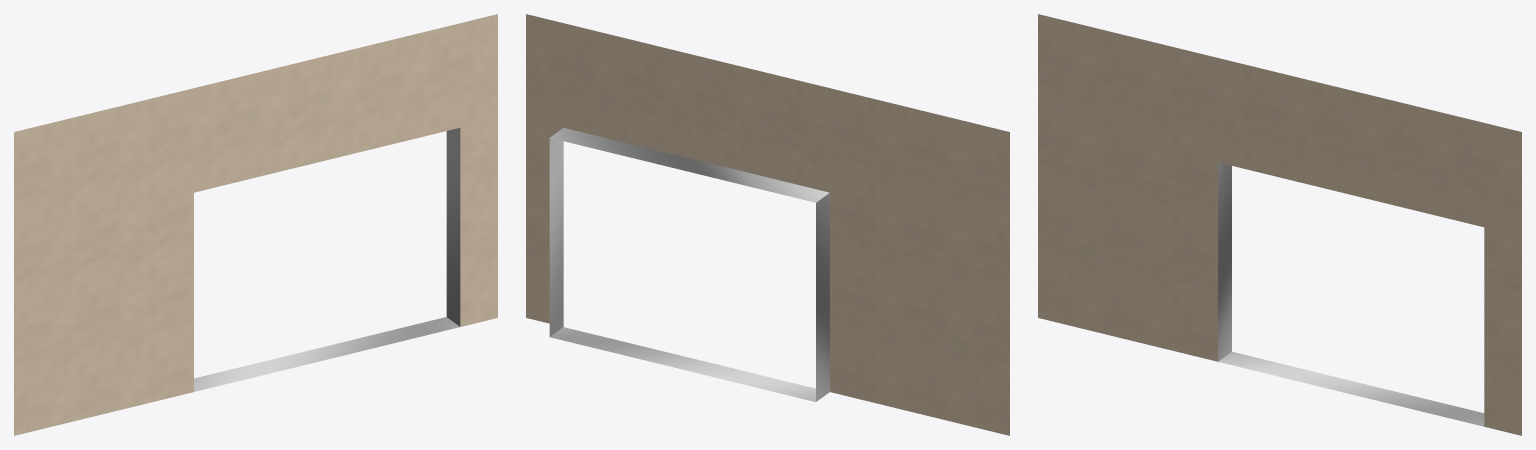
File: roomparts1.fbx
3 renders of one model, left to right at view 1: azimuth 30°, elevation 25°; view 2: azimuth 150°, elevation 25°; view 3: azimuth 330°, elevation 25°, orthographic.
Visible parts, largest first — view 1: polySurface35; view 2: polySurface35; view 3: polySurface35.
Boxes of the visible parts, x1,y1,x2,y2 form: polySurface35: (14, 14, 497, 435); polySurface35: (526, 14, 1009, 435); polySurface35: (1038, 14, 1521, 435).
Size of the model in its own units: 25 by 15 by 1.25.
